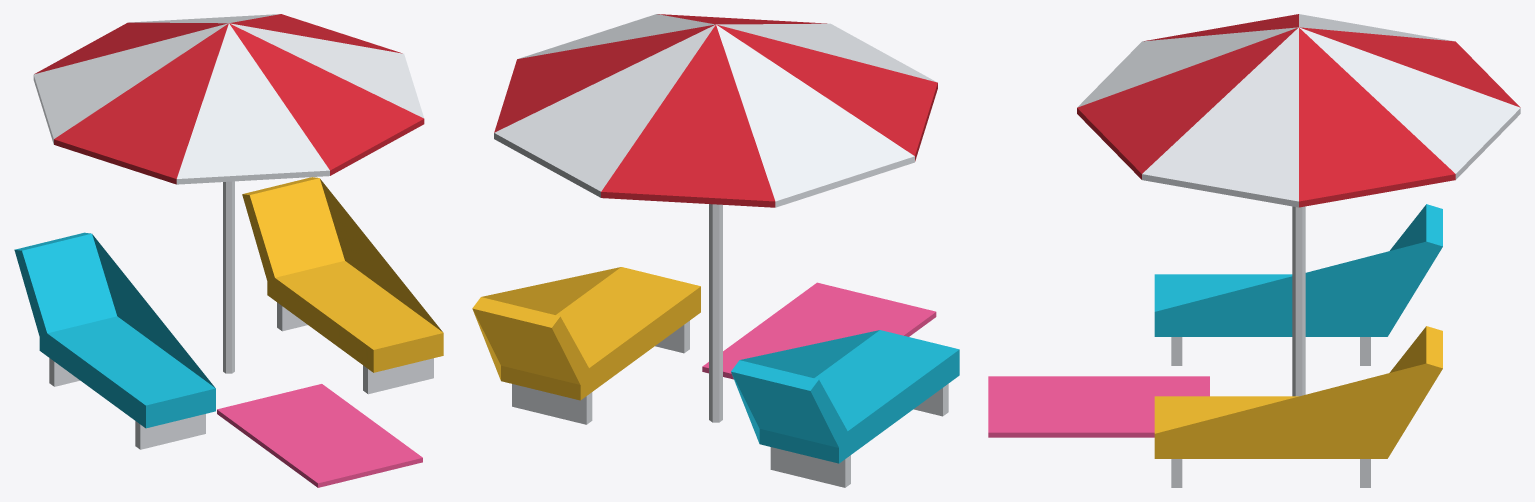
File: BeachUmbrella.fbx
The picture shows the model from 3 angles, left to right: view 1: azimuth 30°, elevation 25°; view 2: azimuth 150°, elevation 25°; view 3: azimuth 270°, elevation 25°; orthographic projection. The views are drawn at different scales.
Visible parts, largest first — view 1: BeachUmbrella; view 2: BeachUmbrella; view 3: BeachUmbrella.
Boxes of the visible parts, <box> form: BeachUmbrella: <box>14,14,443,487</box>; BeachUmbrella: <box>472,14,959,487</box>; BeachUmbrella: <box>988,14,1520,487</box>.
Bounding box in the file's own units: 8 × 7.6 × 9.6.
Materials: 1 (1 with a texture image).
